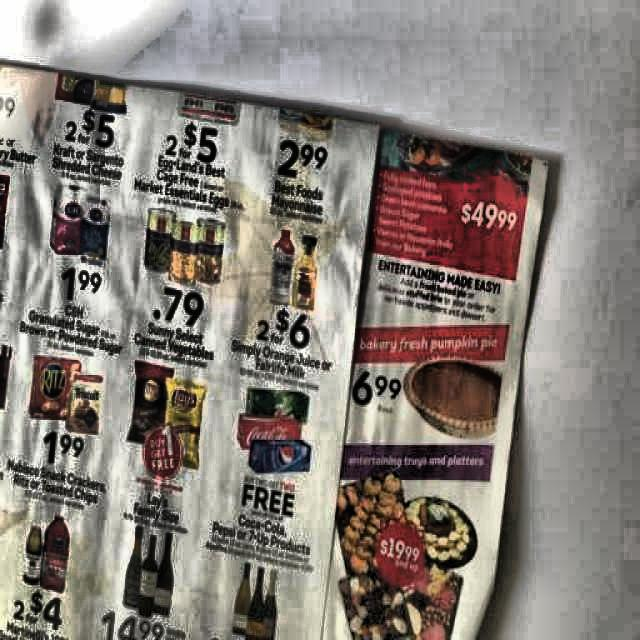Paper: (0, 57, 546, 635)
